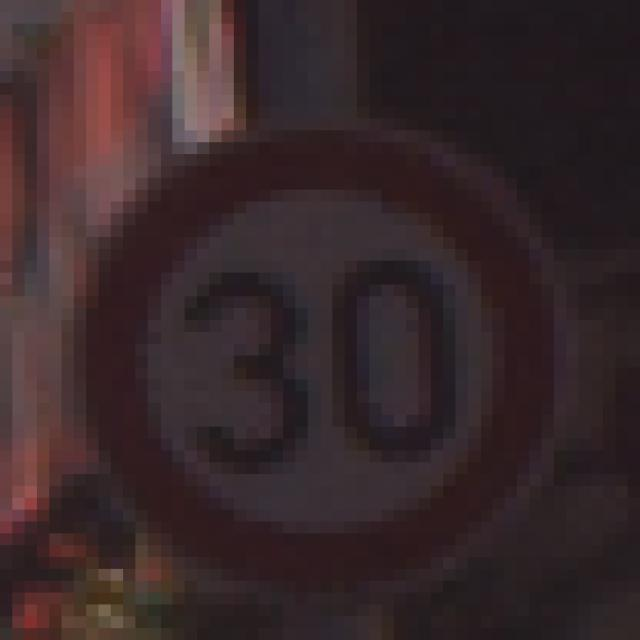Speed Limit -30-: (55, 65, 560, 575)
